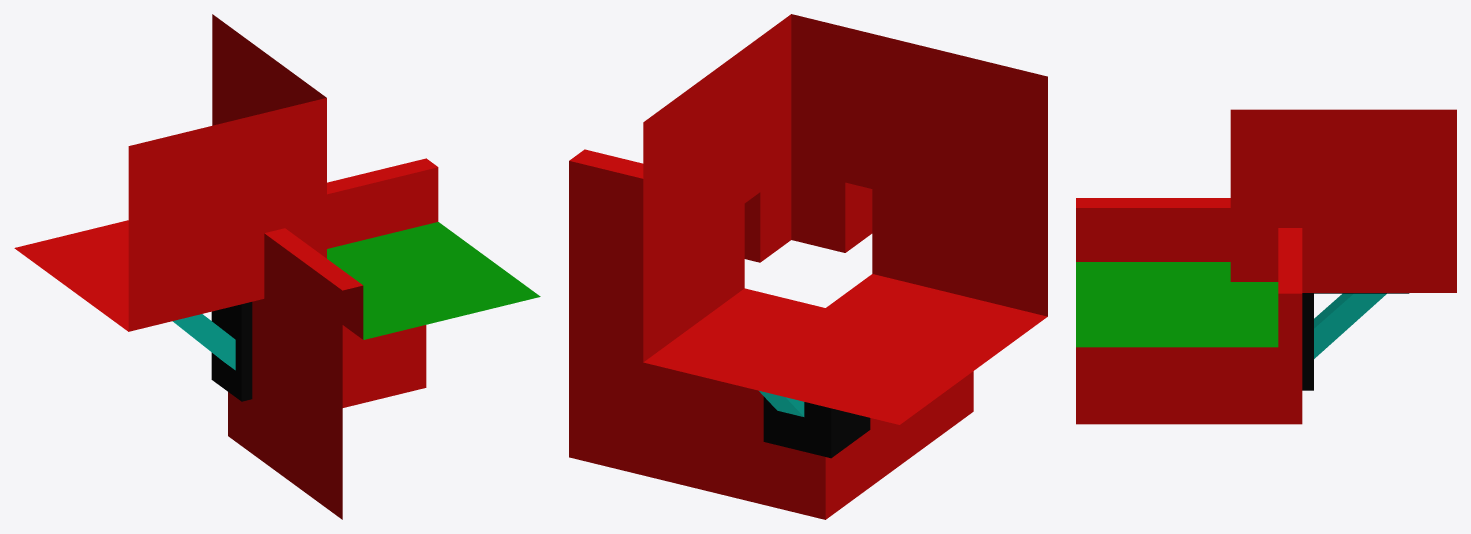
The picture shows the model from 3 angles, left to right: view 1: azimuth 30°, elevation 25°; view 2: azimuth 150°, elevation 25°; view 3: azimuth 270°, elevation 25°; orthographic projection. The views are drawn at different scales.
Visible parts, largest first — view 1: None_E_W_E_E_E_E_A_E_None; view 2: None_E_W_E_E_E_E_A_E_None; view 3: None_E_W_E_E_E_E_A_E_None.
Part boxes in pixels (x1=…): None_E_W_E_E_E_E_A_E_None: x1=14, y1=14, x2=540, y2=519; None_E_W_E_E_E_E_A_E_None: x1=569, y1=14, x2=1047, y2=519; None_E_W_E_E_E_E_A_E_None: x1=1076, y1=109, x2=1456, y2=424.
Size of the model in its own units: 100 by 100 by 100.
